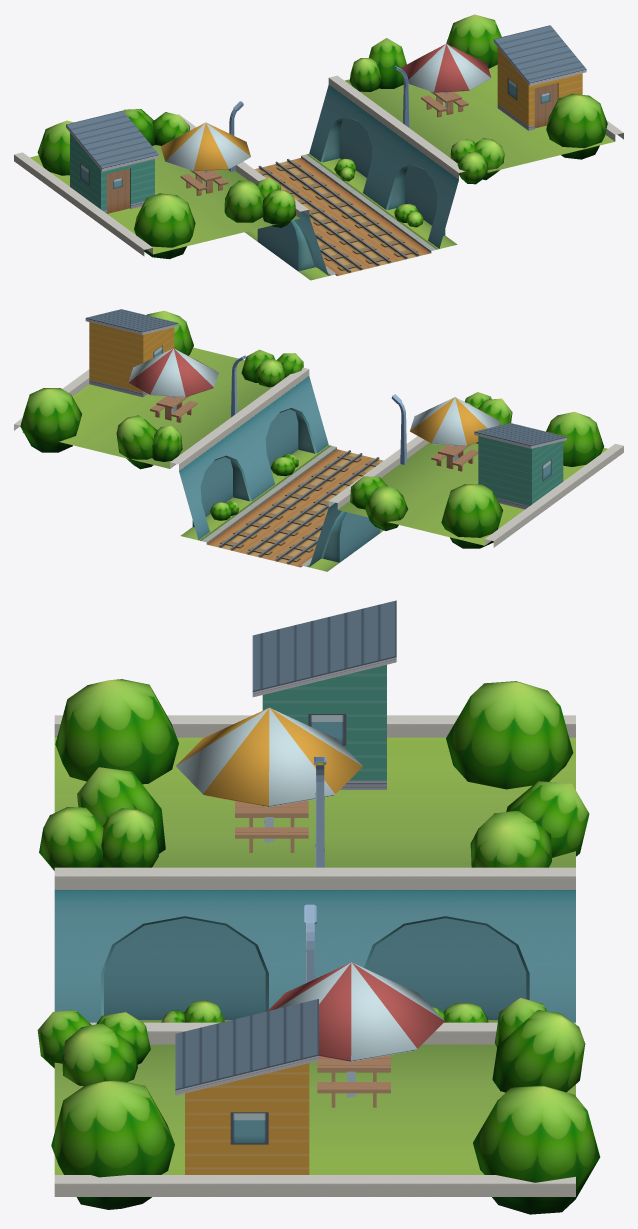
File: Road01.FBX
3 renders of one model, top to bottom at view 1: azimuth 30°, elevation 25°; view 2: azimuth 150°, elevation 25°; view 3: azimuth 270°, elevation 25°, orthographic. The views are drawn at different scales.
Visible parts, largest first — view 1: Object (×2), Rail; view 2: Object (×2), Rail; view 3: Object (×2).
Part boxes in pixels (x1=…): Object (×2): x1=14, y1=14, x2=623, y2=280; Rail: x1=254, y1=158, x2=430, y2=275; Object (×2): x1=14, y1=309, x2=623, y2=571; Rail: x1=207, y1=449, x2=383, y2=567; Object (×2): x1=37, y1=600, x2=600, y2=1214.
Bounding box in the file's own units: 3403 × 924 × 1727.
